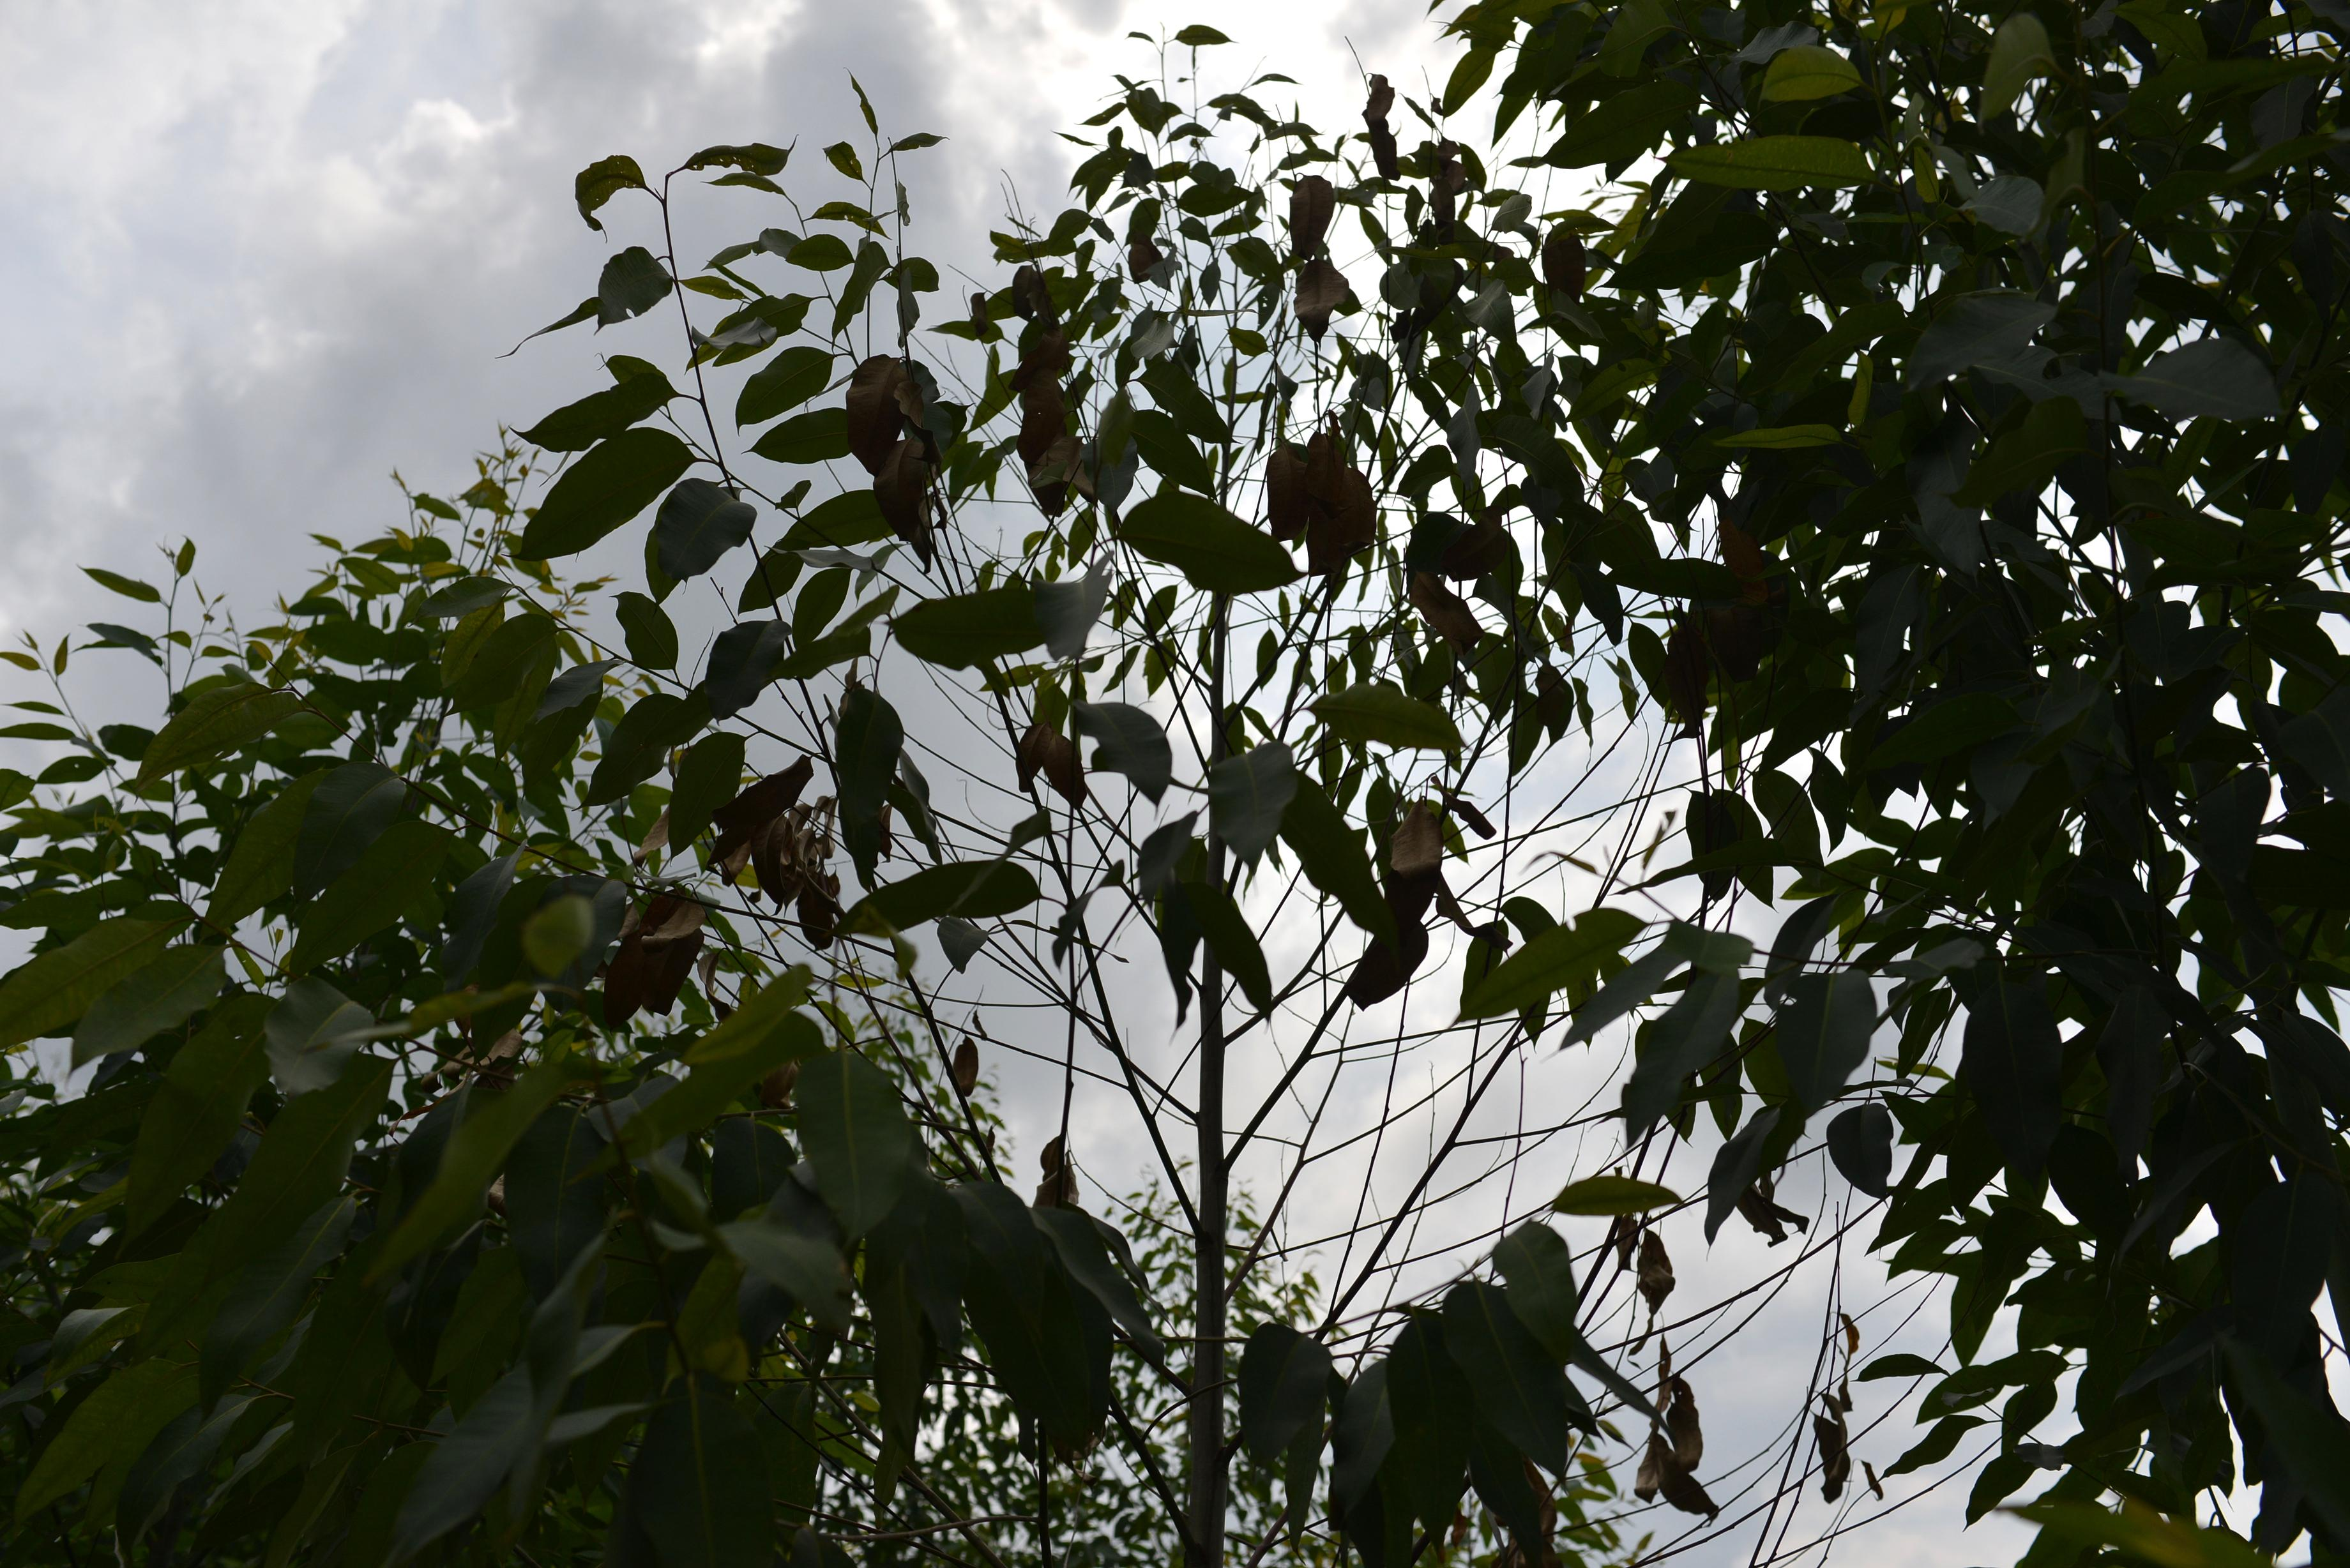Phalopeltis: (1223, 418, 1396, 630), (688, 782, 852, 926), (1269, 147, 1391, 336), (1615, 1326, 1725, 1529), (997, 336, 1108, 516), (997, 658, 1095, 817), (1361, 798, 1440, 884)
